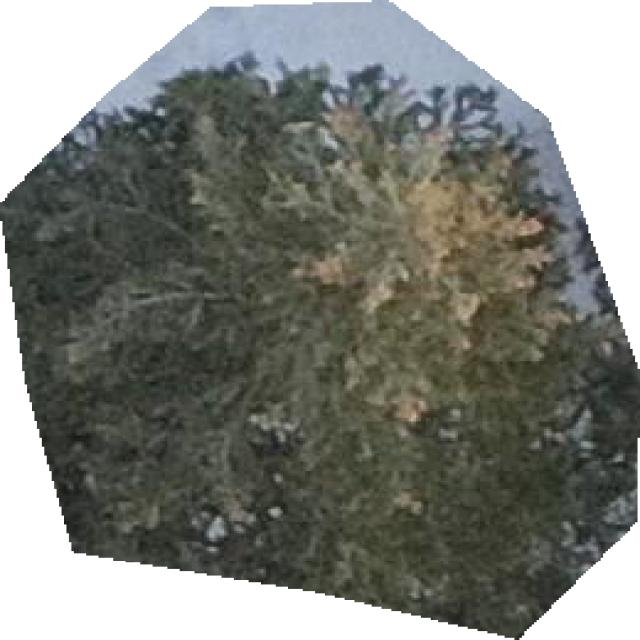spruce: (0, 29, 638, 638)
